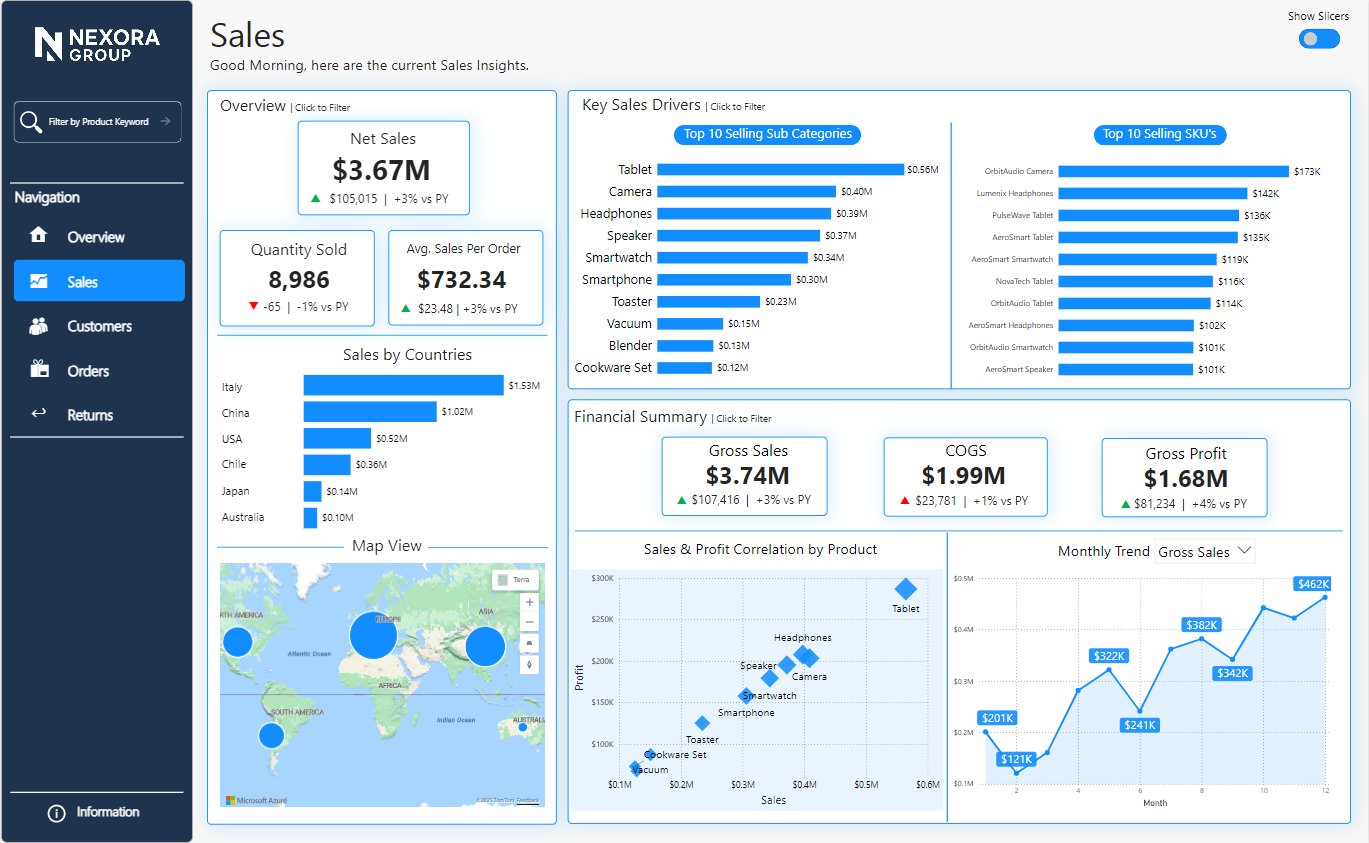

The page's visual inventory and layout, read from the dashboard file:
{"tool":"powerbi","page":{"name":"Sales","canvas":[2240,1420],"ordinal":1},"visuals":[{"type":"group","id":"g1","title":"Group 10","box":[10,2,320,1403],"z":0,"group":"g29"},{"type":"shape","box":[10,2,320,1403],"z":0,"group":"g1"},{"type":"group","id":"g2","title":"Group 2","box":[2155.7,44,73.7,39.6],"z":0,"group":"g28"},{"type":"group","id":"g3","title":"Group 1","box":[2159,47.3,68.3,33.3],"z":0,"group":"g2"},{"type":"shape","box":[2159,47.3,68.3,33.3],"z":0,"group":"g3"},{"type":"textbox","box":[359.9,152.4,392.9,52.9],"z":0,"group":"g16"},{"type":"shape","box":[20.6,168.5,279.3,68.5],"z":0,"group":"g27"},{"type":"shape","box":[493.8,200.4,286.1,157.6],"z":0,"group":"g20"},{"type":"shape","box":[1119.5,207.5,312.3,34.2],"z":0,"group":"g17"},{"type":"shape","box":[1818.8,207.7,222,34.6],"z":0,"group":"g18"},{"type":"card","fields":{"Values":["fact_sales.NetSales_YoY_Diff"]},"box":[530.6,307.7,229.8,47.6],"z":0,"group":"g8"},{"type":"textbox","box":[46.7,365.2,51.3,88.2],"z":0,"group":"g12"},{"type":"group","id":"g4","title":"Group 1","box":[648.1,394.4,244,145.6],"z":0,"group":"g19"},{"type":"card","fields":{"Values":["fact_sales.quantity_sold"]},"box":[397.2,418.3,198.6,88.6],"z":0,"group":"g21"},{"type":"card","fields":{"Values":["fact_sales.avg_order_value"]},"box":[667.6,419.7,198,88.4],"z":0,"group":"g4"},{"type":"card","fields":{"Values":["fact_sales.QuantitySold_YoY_Diff"]},"box":[392.3,487.5,229.8,47.6],"z":0,"group":"g6"},{"type":"card","fields":{"Values":["fact_orders.Avg_Order_Value_YoY_Diff"]},"box":[662.3,491.2,229.8,47.6],"z":0,"group":"g7"},{"type":"shape","box":[943.3,664.1,1286,706.9],"z":0},{"type":"card","fields":{"Values":["Sum(fact_sales.GrossSales)"]},"box":[1106.7,726.5,271.6,126.5],"z":0,"group":"g13"},{"type":"shape","box":[1468.2,727.6,273.7,132.7],"z":0,"group":"g24"},{"type":"group","id":"g5","title":"Group 2","box":[1835.1,731.1,271.6,126.5],"z":0,"group":"g23"},{"type":"card","fields":{"Values":["Sum(fact_sales.COGS)"]},"box":[1835.1,731.1,272.9,127],"z":0,"group":"g5"},{"type":"card","fields":{"Values":["fact_sales.GrossSales_YoY_Diff"]},"box":[1133.7,809.6,230.1,47.7],"z":0,"group":"g22"},{"type":"card","fields":{"Values":["fact_sales.COGS_YoY_Diff"]},"box":[1501,810.6,229.8,47.6],"z":0,"group":"g14"},{"type":"card","fields":{"Values":["fact_sales.GrossProfit_YoY_Diff"]},"box":[1863.8,816.8,229.8,47.6],"z":0,"group":"g9"},{"type":"shape","box":[359.2,890.2,211.6,41.8],"z":0,"group":"g15"},{"type":"textbox","box":[1736.4,895.5,205,46.7],"z":0,"group":"g25"},{"type":"textbox","box":[122.1,1331,162.8,50.2],"z":0,"group":"g10"},{"type":"textbox","box":[132.1,1333,162.8,50.2],"z":0,"group":"g11"},{"type":"textbox","box":[2136.2,10,113.3,37.8],"z":1000,"group":"g28"},{"type":"image","box":[28,29.7,282.3,95.2],"z":1000,"group":"g1"},{"type":"actionButton","box":[2155.7,44,75,40],"z":1000,"group":"g2"},{"type":"shape","box":[2166.2,52.3,22.8,22.8],"z":1000,"group":"g3"},{"type":"textbox","box":[962.4,150.1,394,48],"z":1000,"group":"g16"},{"type":"image","box":[22.8,176.8,54.3,53.9],"z":1000,"group":"g27"},{"type":"textbox","box":[1131.2,203.3,306.2,46.7],"z":1000,"group":"g17"},{"type":"textbox","box":[1828.9,203.3,217.2,46.7],"z":1000,"group":"g18"},{"type":"card","fields":{"Values":["Sum(fact_sales.NetSales)"]},"box":[543,237.7,182.1,84.9],"z":1000,"group":"g20"},{"type":"textbox","box":[18,306,162,50],"z":1000,"group":"g26"},{"type":"card","fields":{"Values":["fact_sales.NetSales_YOY_Arrow"]},"box":[497.8,307,51.8,47.7],"z":1000,"group":"g8"},{"type":"textbox","box":[28,308,162,50],"z":1000,"group":"g29"},{"type":"shape","box":[644.3,382.9,257.9,159.3],"z":1000,"group":"g19"},{"type":"textbox","box":[46.7,463,51.3,71.1],"z":1000,"group":"g12"},{"type":"group","id":"g6","title":"Group 3","box":[392.3,486.8,229.8,48.4],"z":1000,"group":"g21"},{"type":"card","fields":{"Values":["fact_sales.QuantitySold_YoY_Arrow"]},"box":[394.4,486.8,51.8,47.7],"z":1000,"group":"g6"},{"type":"group","id":"g7","title":"Group 3","box":[648.1,490.5,244,49.5],"z":1000,"group":"g4"},{"type":"card","fields":{"Values":["fact_orders.AOV_YoY_Arrow"]},"box":[648.1,490.5,52.4,47.9],"z":1000,"group":"g7"},{"type":"shape","box":[382.4,678.5,203.6,41.8],"z":1000},{"type":"shape","box":[1099.4,726.5,276,132.7],"z":1000,"group":"g22"},{"type":"textbox","box":[1161.7,726.5,162.2,50.2],"z":1000,"group":"g13"},{"type":"card","fields":{"Values":["Sum(fact_sales.GrossProfit)"]},"box":[1466.1,727,271.6,126.5],"z":1000,"group":"g24"},{"type":"shape","box":[1831,729,275.7,132.7],"z":1000,"group":"g23"},{"type":"textbox","box":[1890.8,731.1,161.4,48.7],"z":1000,"group":"g5"},{"type":"card","fields":{"Values":["fact_sales.COGS_YoY_Arrow"]},"box":[1478.5,809.9,51.8,47.7],"z":1000,"group":"g14"},{"type":"card","fields":{"Values":["fact_orders.AOV_YoY_Arrow"]},"box":[1845.5,816.1,51.8,47.7],"z":1000,"group":"g9"},{"type":"slicer","fields":{"Values":["Parameter.Parameter"]},"box":[1909.7,885.4,188.3,60],"z":1000,"group":"g25"},{"type":"shape","box":[709.6,893.9,201.2,36.3],"z":1000,"group":"g15"},{"type":"actionButton","box":[72,1332.7,39.8,39.8],"z":1000,"group":"g10"},{"type":"actionButton","box":[82,1334.7,39.8,39.8],"z":1000,"group":"g11"},{"type":"actionButton","box":[2150.7,41.7,79.1,41.4],"z":2000,"group":"g28"},{"type":"shape","box":[942.9,150.2,1286,498.7],"z":2000},{"type":"textSlicer","fields":{"Values":["dim_product.Product.Category"]},"box":[66.3,182.2,232.1,37.9],"z":2000,"group":"g27"},{"type":"group","id":"g8","title":"Group 3","box":[497.8,307,262.7,48.4],"z":2000,"group":"g20"},{"type":"pageNavigator","box":[31,359.9,286.3,525.5],"z":2000,"group":"g1"},{"type":"shape","box":[363.6,382.6,258.6,160],"z":2000,"group":"g21"},{"type":"textbox","box":[664.6,394.4,210.2,47.5],"z":2000,"group":"g4"},{"type":"textbox","box":[46.7,546.1,51.3,88.2],"z":2000,"group":"g12"},{"type":"textbox","box":[1525,727,160.9,49.5],"z":2000,"group":"g24"},{"type":"card","fields":{"Values":["fact_sales.GrossSales_YoY_Arrow"]},"box":[1106.7,809.6,51.8,47.7],"z":2000,"group":"g22"},{"type":"group","id":"g9","title":"Group 3","box":[1845.5,816.1,248.1,48.4],"z":2000,"group":"g23"},{"type":"textbox","box":[568.5,884.5,145.5,48.5],"z":2000,"group":"g15"},{"type":"group","id":"g10","title":"Group 11","box":[72,1331,212.9,50.2],"z":2000,"group":"g26"},{"type":"group","id":"g11","title":"Group 11","box":[82,1333,212.9,50.2],"z":2000,"group":"g29"},{"type":"textbox","box":[576.1,206.7,120,83.2],"z":3000,"group":"g20"},{"type":"group","id":"g12","title":"Group 9","box":[46.7,365.2,54.1,454],"z":3000,"group":"g1"},{"type":"textbox","box":[409.9,391.8,178.6,47.7],"z":3000,"group":"g21"},{"type":"textbox","box":[48.1,629.7,52.7,97.8],"z":3000,"group":"g12"},{"type":"shape","box":[719.7,682.2,193.6,36.4],"z":3000},{"type":"group","id":"g13","title":"Group 3","box":[1106.7,726.5,271.6,126.5],"z":3000,"group":"g22"},{"type":"group","id":"g14","title":"Group 3","box":[1478.5,809.9,252.9,49.8],"z":3000,"group":"g24"},{"type":"textbox","box":[48.1,725.9,49.9,93.3],"z":4000,"group":"g12"},{"type":"shape","box":[15.9,1316.1,287.5,29.4],"z":4000},{"type":"shape","box":[25.9,1326.1,287.5,29.4],"z":5000},{"type":"shape","box":[343.3,149.3,581.8,1221.9],"z":6000},{"type":"azureMap","fields":{"Category":["dim_region.Country"],"Size":["Sum(fact_sales.NetSales)"]},"box":[359.2,932.7,551.7,415.5],"z":7000},{"type":"clusteredBarChart","fields":{"Y":["Sum(fact_sales.NetSales)"],"Category":["dim_product.SubCategory"]},"box":[939.4,245.4,626,397.9],"z":8000},{"type":"textbox","box":[556.9,565.3,239.3,49.3],"z":9000},{"type":"clusteredBarChart","fields":{"Y":["Sum(fact_sales.NetSales)"],"Category":["dim_product.ProductName"]},"box":[1595.4,249,624.2,397],"z":10000},{"type":"group","id":"g15","title":"Group 4","box":[359.2,884.5,551.7,47.7],"z":11000},{"type":"shape","box":[359,535,550,46.5],"z":12000},{"type":"pivotTable","fields":{"Rows":["dim_region.Country"],"Values":["Sum(fact_sales.NetSales)"]},"box":[356.8,572.6,445.8,318.7],"z":13000},{"type":"clusteredBarChart","fields":{"Y":["Sum(fact_sales.NetSales)"],"Category":["dim_region.Country"]},"box":[499.1,611.6,408.5,274.6],"z":14000},{"type":"group","id":"g16","title":"Group 8","box":[359.9,150.1,996.5,55.2],"z":15000},{"type":"shape","box":[1557.1,204.1,47.1,442.9],"z":16000},{"type":"group","id":"g17","title":"Group 8","box":[1119.5,203.3,317.9,46.7],"z":17000},{"type":"group","id":"g18","title":"Group 8","box":[1818.8,203.3,228.1,46],"z":18000},{"type":"lineChart","title":"Gross Sales","fields":{"Y":["fact_sales.Gross Sales (1)"],"Category":["dim_date.Month Number"]},"box":[1580.5,947.4,638,402],"z":19000},{"type":"textbox","box":[948.1,668.4,440.3,60.1],"z":20000},{"type":"shape","box":[1565.4,886.2,18.6,481.4],"z":21000},{"type":"scatterChart","fields":{"X":["Sum(fact_sales.GrossSales)"],"Y":["Sum(fact_sales.GrossProfit)"],"Category":["dim_product.SubCategory"],"Size":["Sum(fact_sales.GrossSales)"]},"box":[948.7,947.6,620,401.2],"z":22000},{"type":"shape","box":[955.1,862.9,1278.5,40.7],"z":23000},{"type":"textbox","box":[342.5,13.4,744,126],"z":24000},{"type":"textbox","box":[1064.8,891.4,403.2,42.4],"z":25000},{"type":"group","id":"g19","title":"Group 11","box":[644.3,382.9,257.9,159.3],"z":26000},{"type":"group","id":"g20","title":"Group 12","box":[493.8,200.4,286.1,157.6],"z":27000},{"type":"group","id":"g21","title":"Group 10","box":[363.6,382.6,258.6,160],"z":28000},{"type":"group","id":"g22","title":"Group 5","box":[1099.4,726.5,279.9,132.7],"z":29000},{"type":"group","id":"g23","title":"Group 13","box":[1831,729,275.7,134.8],"z":30000},{"type":"group","id":"g24","title":"Group 14","box":[1466.1,727,275.7,132.7],"z":31000},{"type":"group","id":"g25","title":"Group 6","box":[1736.4,885.4,361.7,60],"z":32000},{"type":"group","id":"g26","title":"Group 12","box":[18,306,266.8,1075.2],"z":33000},{"type":"shape","box":[16,1304,288,30],"z":34000},{"type":"shape","box":[16,290,288,30],"z":35000},{"type":"shape","box":[16,712,288,30],"z":36000},{"type":"group","id":"g27","title":"Group 14","box":[20.6,168.5,279.3,68.5],"z":37000},{"type":"group","id":"g28","title":"Group 13","box":[2136.2,10,115,75],"z":43000},{"type":"group","id":"g29","title":"Group 12","box":[10,2,320,1403],"z":45000},{"type":"qnaVisual","box":[2090,903.6,150,467.4],"z":46000}]}

Visuals, with their boxes on the page's 2240x1420 design canvas (x1, y1, x2, y2). These are canvas units, not pixel positions in the 1369x843 screenshot, which may show the page scaled, cropped or inside an application window:
"Group 10" group: bbox=[10, 2, 330, 1405]
shape: bbox=[10, 2, 330, 1405]
"Group 2" group: bbox=[2156, 44, 2229, 84]
"Group 1" group: bbox=[2159, 47, 2227, 81]
shape: bbox=[2159, 47, 2227, 81]
textbox: bbox=[360, 152, 753, 205]
shape: bbox=[21, 168, 300, 237]
shape: bbox=[494, 200, 780, 358]
shape: bbox=[1120, 208, 1432, 242]
shape: bbox=[1819, 208, 2041, 242]
card - fact_sales.NetSales_YoY_Diff: bbox=[531, 308, 760, 355]
textbox: bbox=[47, 365, 98, 453]
"Group 1" group: bbox=[648, 394, 892, 540]
card - fact_sales.quantity_sold: bbox=[397, 418, 596, 507]
card - fact_sales.avg_order_value: bbox=[668, 420, 866, 508]
card - fact_sales.QuantitySold_YoY_Diff: bbox=[392, 488, 622, 535]
card - fact_orders.Avg_Order_Value_YoY_Diff: bbox=[662, 491, 892, 539]
shape: bbox=[943, 664, 2229, 1371]
card - Sum(fact_sales.GrossSales): bbox=[1107, 726, 1378, 853]
shape: bbox=[1468, 728, 1742, 860]
"Group 2" group: bbox=[1835, 731, 2107, 858]
card - Sum(fact_sales.COGS): bbox=[1835, 731, 2108, 858]
card - fact_sales.GrossSales_YoY_Diff: bbox=[1134, 810, 1364, 857]
card - fact_sales.COGS_YoY_Diff: bbox=[1501, 811, 1731, 858]
card - fact_sales.GrossProfit_YoY_Diff: bbox=[1864, 817, 2094, 864]
shape: bbox=[359, 890, 571, 932]
textbox: bbox=[1736, 896, 1941, 942]
textbox: bbox=[122, 1331, 285, 1381]
textbox: bbox=[132, 1333, 295, 1383]
textbox: bbox=[2136, 10, 2250, 48]
image: bbox=[28, 30, 310, 125]
actionButton: bbox=[2156, 44, 2231, 84]
shape: bbox=[2166, 52, 2189, 75]
textbox: bbox=[962, 150, 1356, 198]
image: bbox=[23, 177, 77, 231]
textbox: bbox=[1131, 203, 1437, 250]
textbox: bbox=[1829, 203, 2046, 250]
card - Sum(fact_sales.NetSales): bbox=[543, 238, 725, 323]
textbox: bbox=[18, 306, 180, 356]
card - fact_sales.NetSales_YOY_Arrow: bbox=[498, 307, 550, 355]
textbox: bbox=[28, 308, 190, 358]
shape: bbox=[644, 383, 902, 542]
textbox: bbox=[47, 463, 98, 534]
"Group 3" group: bbox=[392, 487, 622, 535]
card - fact_sales.QuantitySold_YoY_Arrow: bbox=[394, 487, 446, 534]
"Group 3" group: bbox=[648, 490, 892, 540]
card - fact_orders.AOV_YoY_Arrow: bbox=[648, 490, 700, 538]
shape: bbox=[382, 678, 586, 720]
shape: bbox=[1099, 726, 1375, 859]
textbox: bbox=[1162, 726, 1324, 777]
card - Sum(fact_sales.GrossProfit): bbox=[1466, 727, 1738, 854]
shape: bbox=[1831, 729, 2107, 862]
textbox: bbox=[1891, 731, 2052, 780]
card - fact_sales.COGS_YoY_Arrow: bbox=[1478, 810, 1530, 858]
card - fact_orders.AOV_YoY_Arrow: bbox=[1846, 816, 1897, 864]
slicer - Parameter.Parameter: bbox=[1910, 885, 2098, 945]
shape: bbox=[710, 894, 911, 930]
actionButton: bbox=[72, 1333, 112, 1372]
actionButton: bbox=[82, 1335, 122, 1374]
actionButton: bbox=[2151, 42, 2230, 83]
shape: bbox=[943, 150, 2229, 649]
textSlicer - dim_product.Product.Category: bbox=[66, 182, 298, 220]
"Group 3" group: bbox=[498, 307, 760, 355]
pageNavigator: bbox=[31, 360, 317, 885]
shape: bbox=[364, 383, 622, 543]
textbox: bbox=[665, 394, 875, 442]
textbox: bbox=[47, 546, 98, 634]
textbox: bbox=[1525, 727, 1686, 776]
card - fact_sales.GrossSales_YoY_Arrow: bbox=[1107, 810, 1158, 857]
"Group 3" group: bbox=[1846, 816, 2094, 864]
textbox: bbox=[568, 884, 714, 933]
"Group 11" group: bbox=[72, 1331, 285, 1381]
"Group 11" group: bbox=[82, 1333, 295, 1383]
textbox: bbox=[576, 207, 696, 290]
"Group 9" group: bbox=[47, 365, 101, 819]
textbox: bbox=[410, 392, 588, 440]
textbox: bbox=[48, 630, 101, 728]
shape: bbox=[720, 682, 913, 719]
"Group 3" group: bbox=[1107, 726, 1378, 853]
"Group 3" group: bbox=[1478, 810, 1731, 860]
textbox: bbox=[48, 726, 98, 819]
shape: bbox=[16, 1316, 303, 1346]
shape: bbox=[26, 1326, 313, 1356]
shape: bbox=[343, 149, 925, 1371]
azureMap - dim_region.Country x Sum(fact_sales.NetSales): bbox=[359, 933, 911, 1348]
clusteredBarChart - Sum(fact_sales.NetSales) x dim_product.SubCategory: bbox=[939, 245, 1565, 643]
textbox: bbox=[557, 565, 796, 615]
clusteredBarChart - Sum(fact_sales.NetSales) x dim_product.ProductName: bbox=[1595, 249, 2220, 646]
"Group 4" group: bbox=[359, 884, 911, 932]
shape: bbox=[359, 535, 909, 582]
pivotTable - dim_region.Country x Sum(fact_sales.NetSales): bbox=[357, 573, 803, 891]
clusteredBarChart - Sum(fact_sales.NetSales) x dim_region.Country: bbox=[499, 612, 908, 886]
"Group 8" group: bbox=[360, 150, 1356, 205]
shape: bbox=[1557, 204, 1604, 647]
"Group 8" group: bbox=[1120, 203, 1437, 250]
"Group 8" group: bbox=[1819, 203, 2047, 249]
"Gross Sales" lineChart: bbox=[1580, 947, 2218, 1349]
textbox: bbox=[948, 668, 1388, 728]
shape: bbox=[1565, 886, 1584, 1368]
scatterChart - Sum(fact_sales.GrossSales) x Sum(fact_sales.GrossProfit): bbox=[949, 948, 1569, 1349]
shape: bbox=[955, 863, 2234, 904]
textbox: bbox=[342, 13, 1086, 139]
textbox: bbox=[1065, 891, 1468, 934]
"Group 11" group: bbox=[644, 383, 902, 542]
"Group 12" group: bbox=[494, 200, 780, 358]
"Group 10" group: bbox=[364, 383, 622, 543]
"Group 5" group: bbox=[1099, 726, 1379, 859]
"Group 13" group: bbox=[1831, 729, 2107, 864]
"Group 14" group: bbox=[1466, 727, 1742, 860]
"Group 6" group: bbox=[1736, 885, 2098, 945]
"Group 12" group: bbox=[18, 306, 285, 1381]
shape: bbox=[16, 1304, 304, 1334]
shape: bbox=[16, 290, 304, 320]
shape: bbox=[16, 712, 304, 742]
"Group 14" group: bbox=[21, 168, 300, 237]
"Group 13" group: bbox=[2136, 10, 2251, 85]
"Group 12" group: bbox=[10, 2, 330, 1405]
qnaVisual: bbox=[2090, 904, 2240, 1371]
